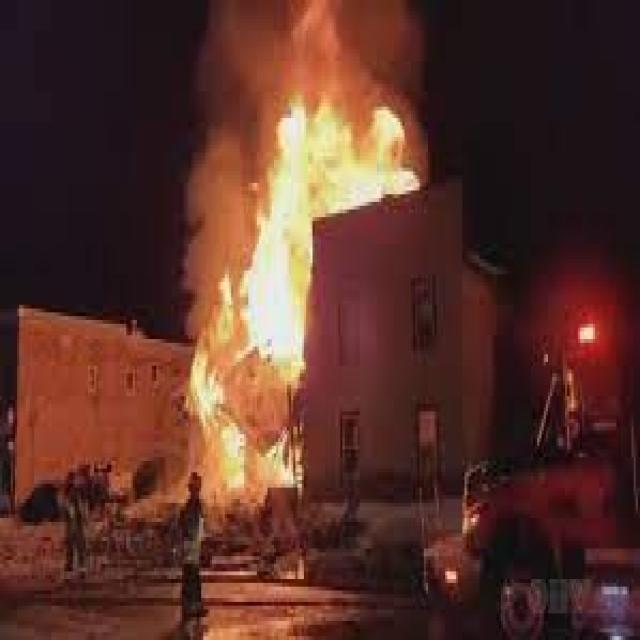fire: (186, 55, 311, 386), (286, 38, 452, 232), (190, 400, 309, 498)
